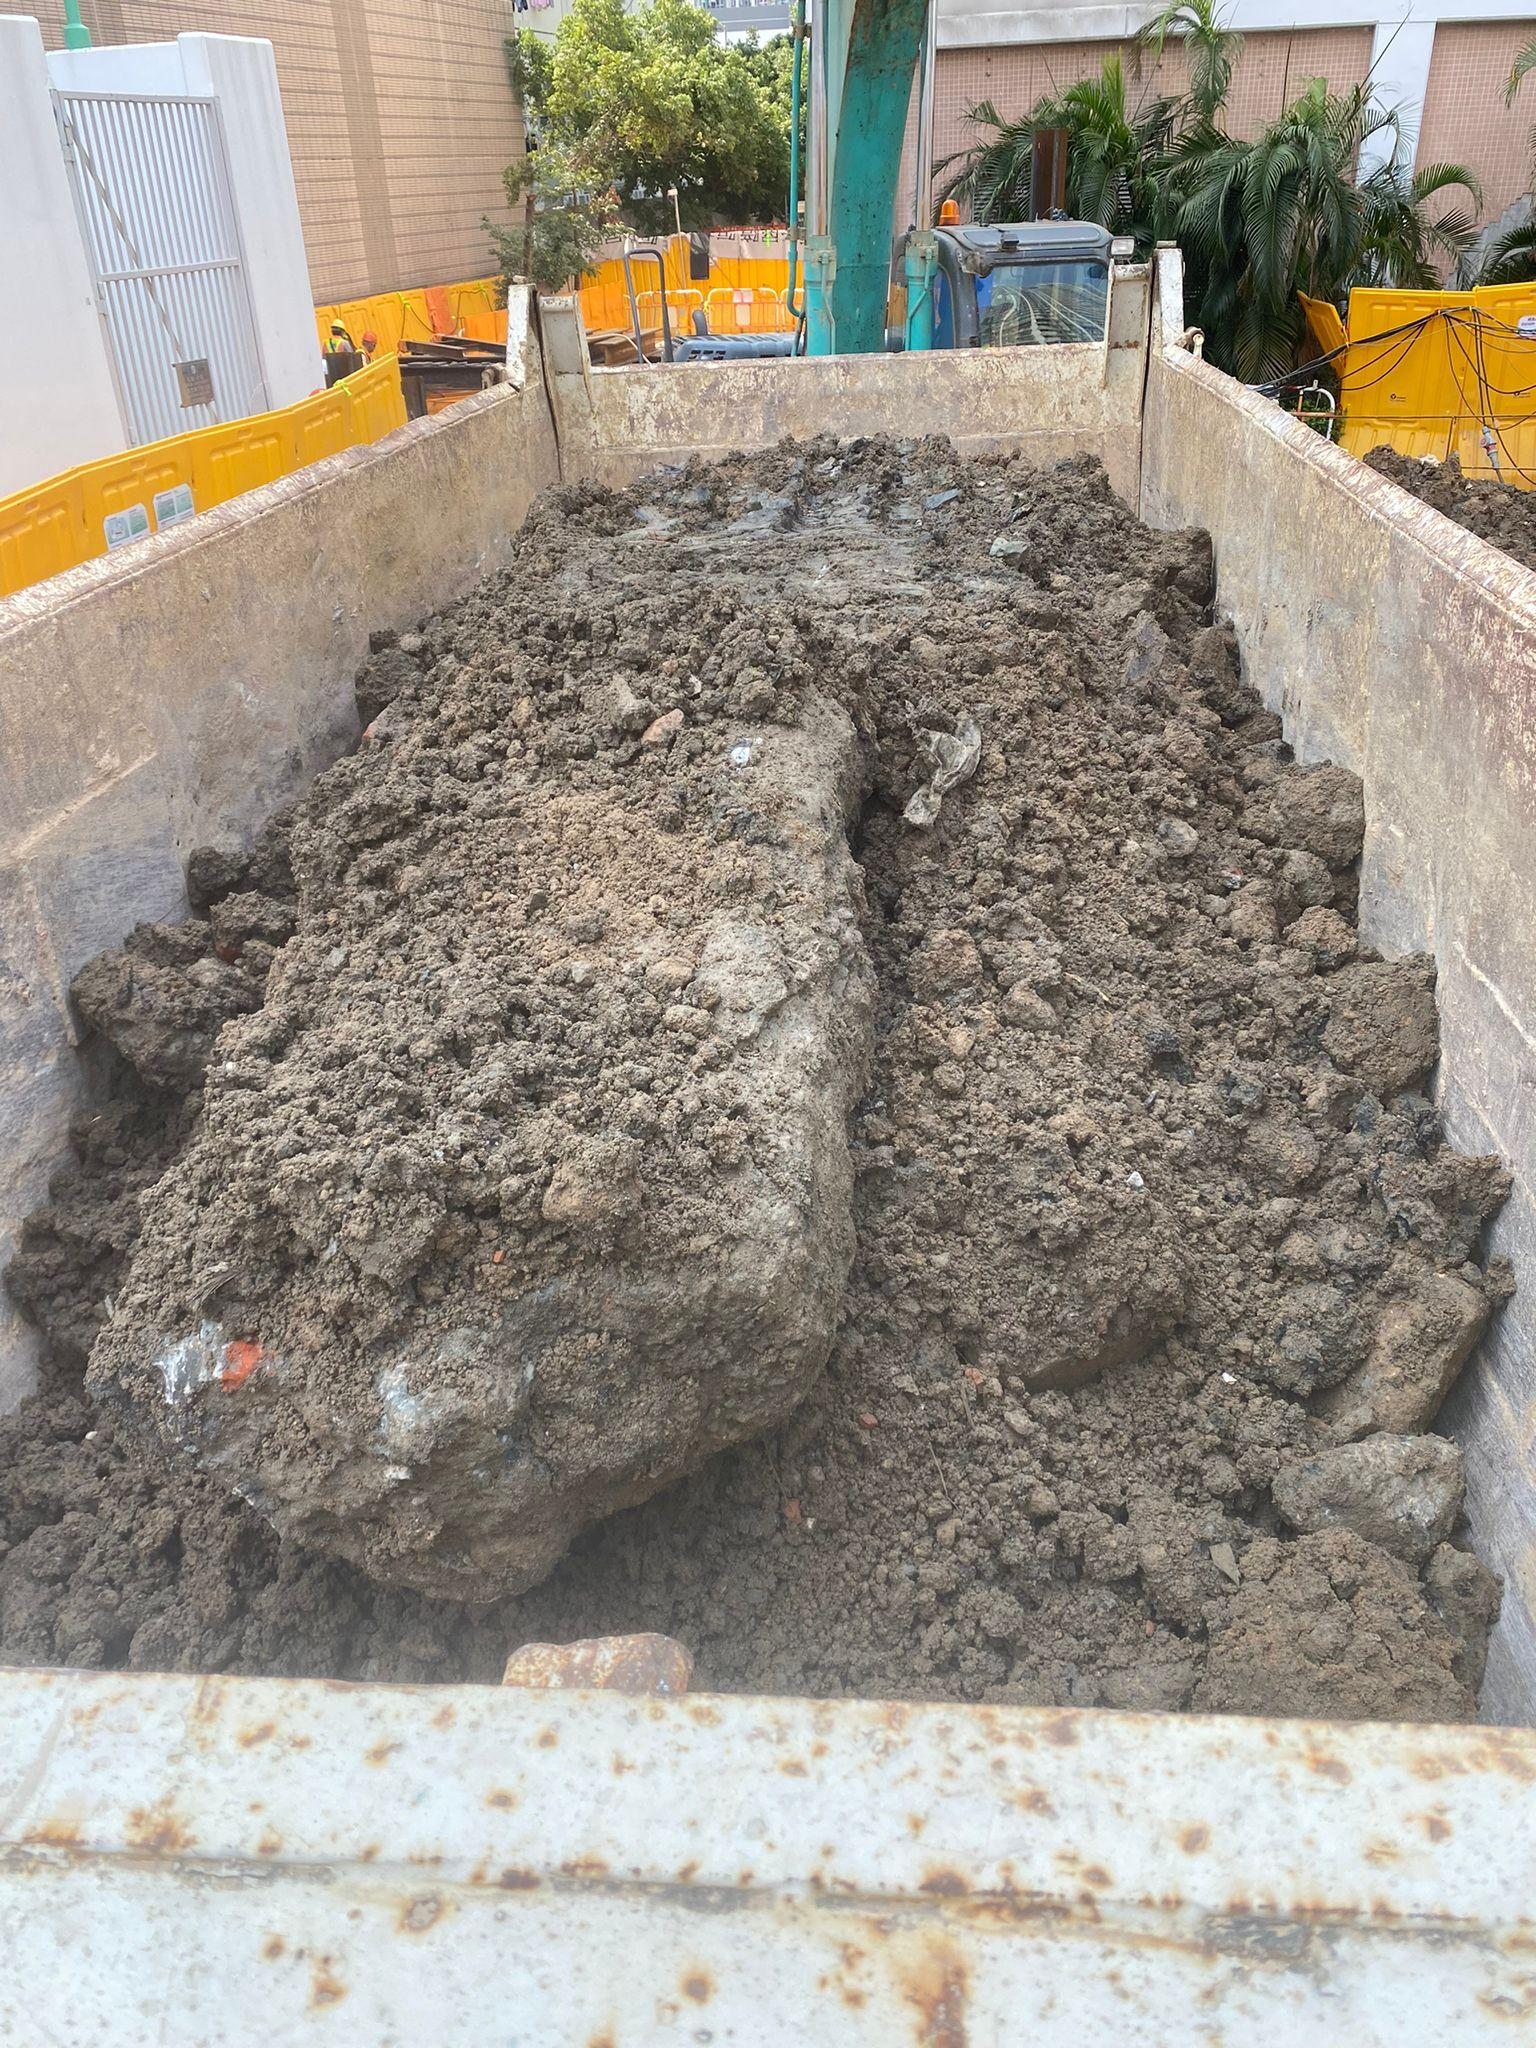wet: (56, 437, 1483, 1693)
